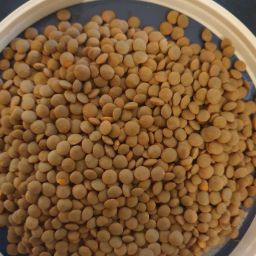Black Lentil(masoor daal): (58, 15, 256, 209), (49, 99, 243, 256), (1, 33, 89, 256)
